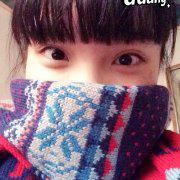OK: (29, 27, 152, 150)
